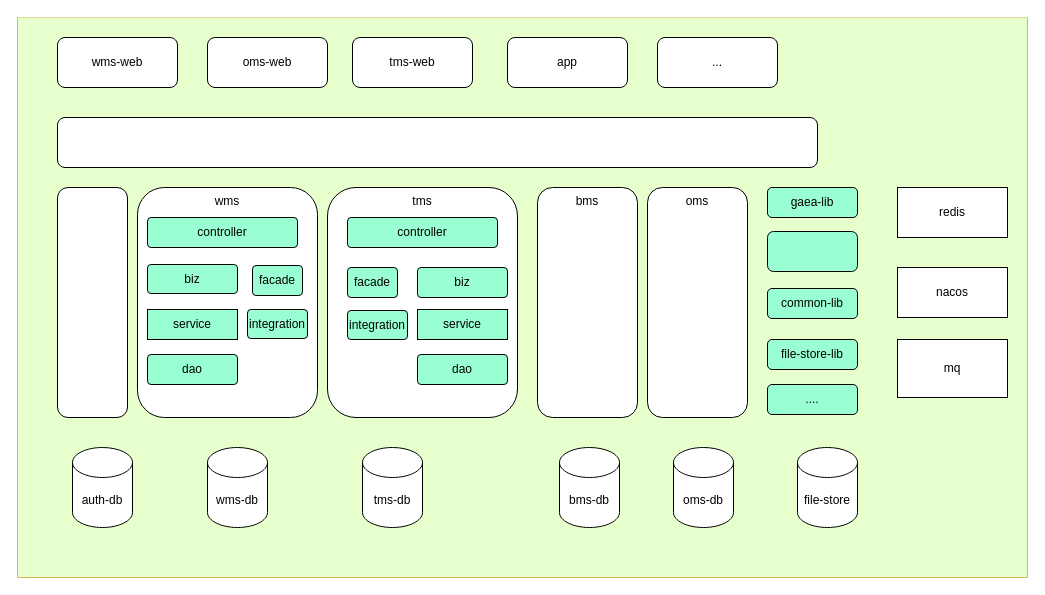
This 1045x595 diagram has some shape labels left out. Each missing label, with the centre of its shape:
auth: [92,302]
code-gen-lib id-gen-lib: [812,251]
gate-way: [437,142]
